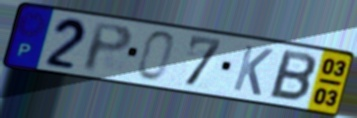0: (135, 29, 180, 84)
2: (39, 15, 91, 74)
7: (184, 33, 225, 90)
B: (267, 48, 319, 104)
K: (230, 43, 276, 98)
P: (81, 20, 136, 75)
